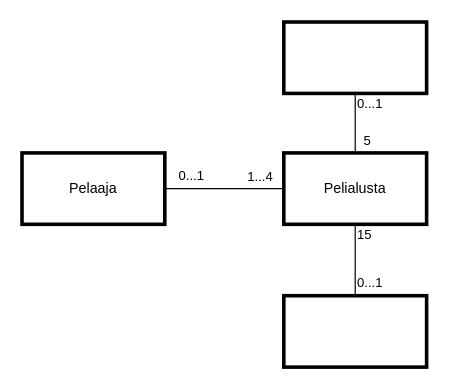
Image size: 449x389. Some labels were removed from this diagram. The centre of each missing label's shape, as x and y in pixels:
"Noppa" goes at point 354,57.
"Noppa yhdistelmä" goes at point 354,330.
